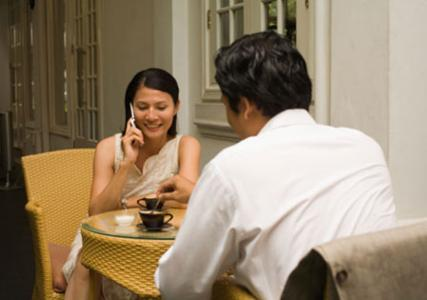person: (62, 67, 203, 299)
